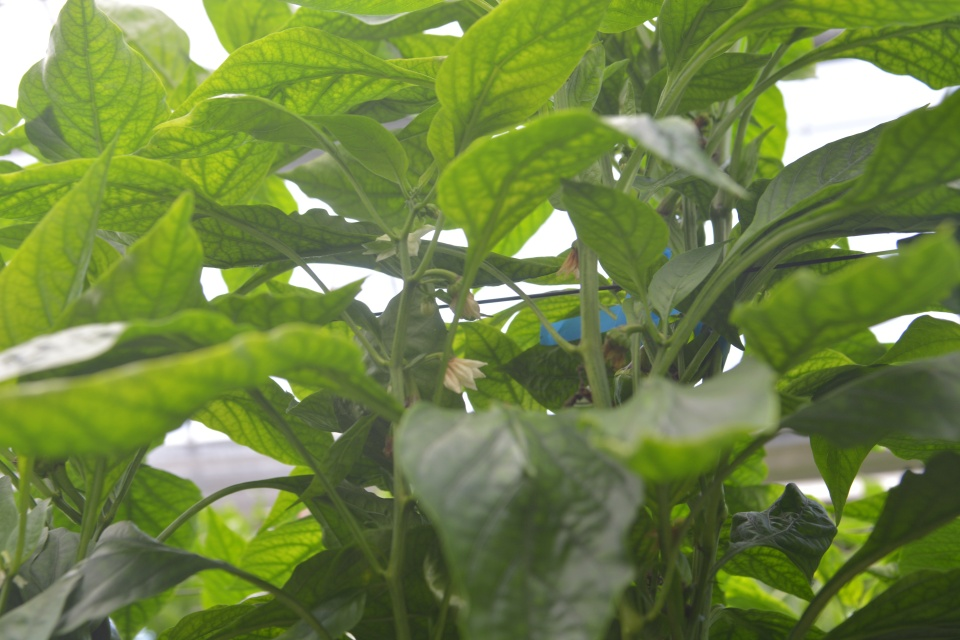flower: (361, 222, 438, 262), (439, 353, 489, 396), (448, 290, 495, 323)
immature: (610, 364, 650, 408), (418, 293, 436, 317)
